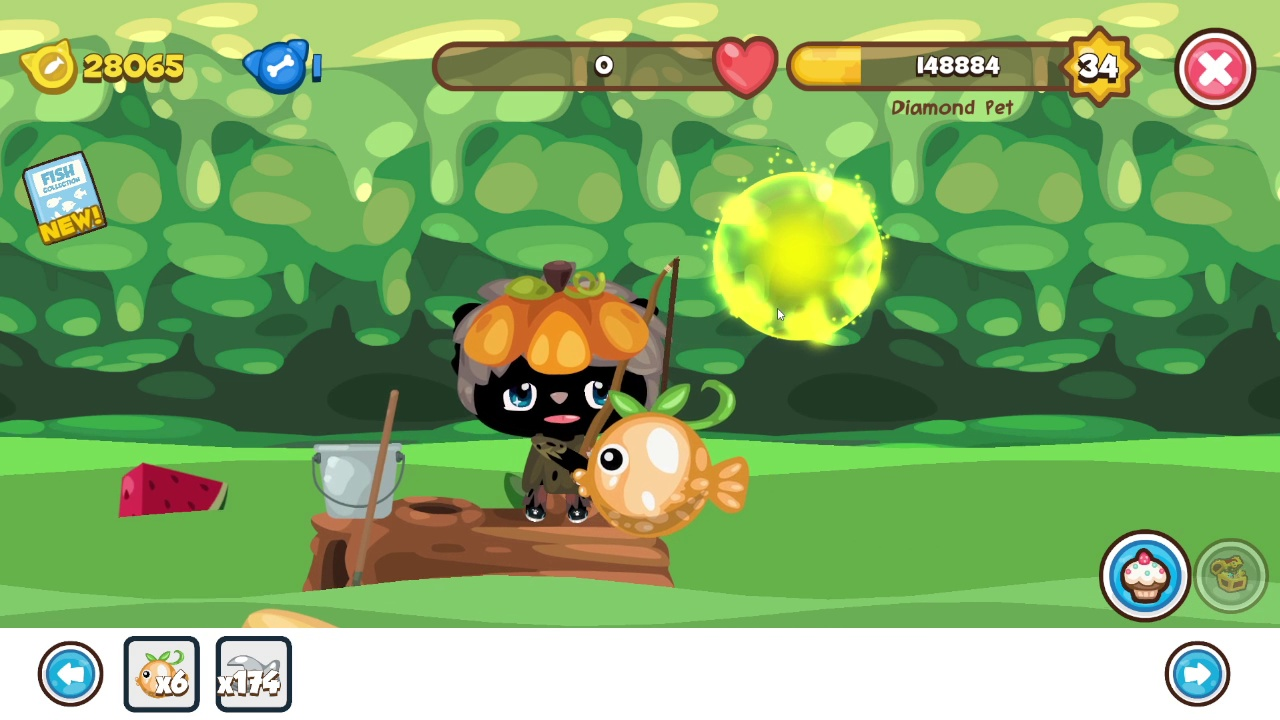point: (712, 169, 887, 343)
